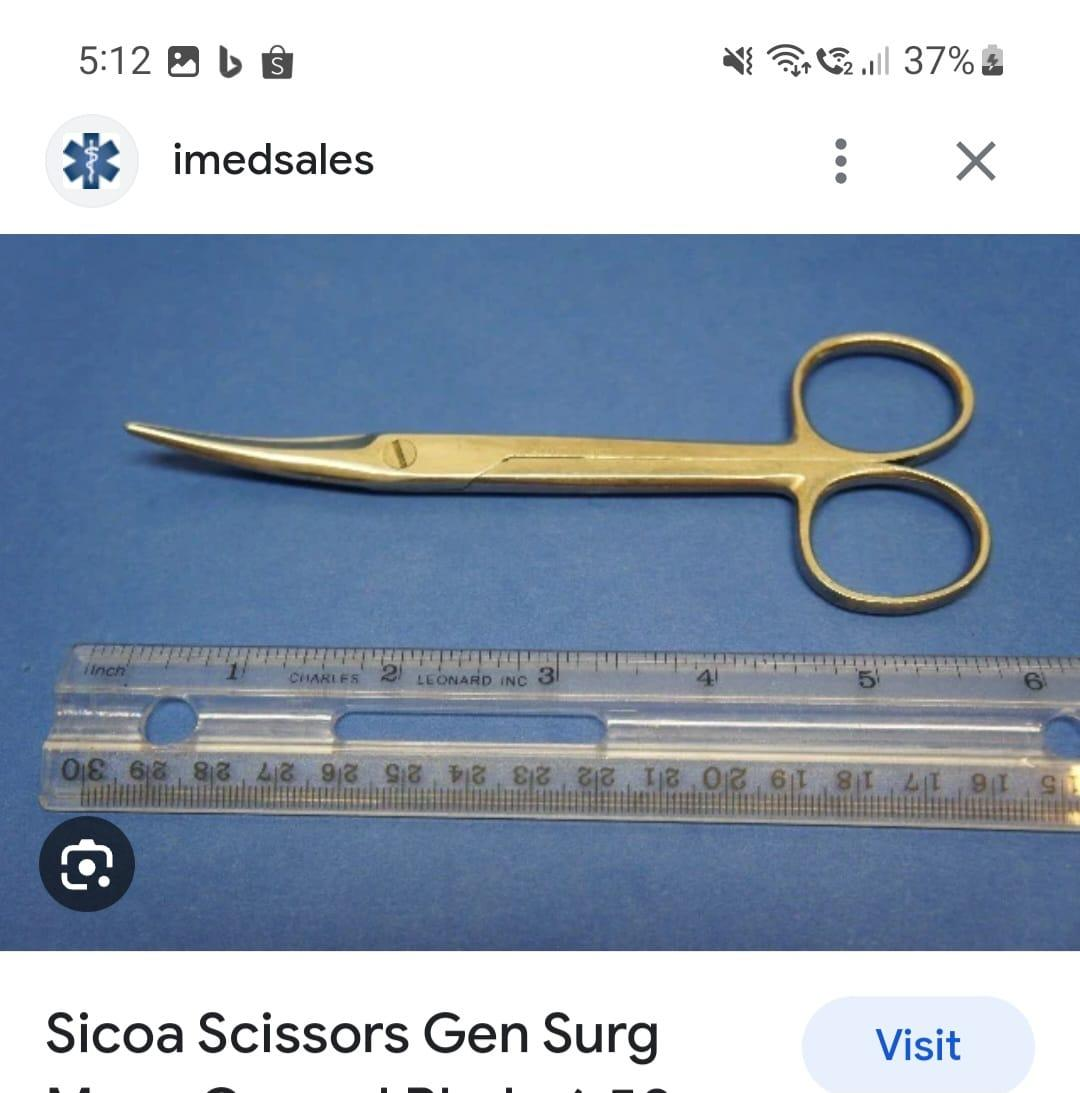Curved Mayo: (105, 328, 1010, 615)
